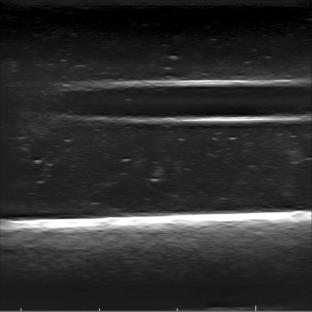vessel: (48, 77, 307, 126)
